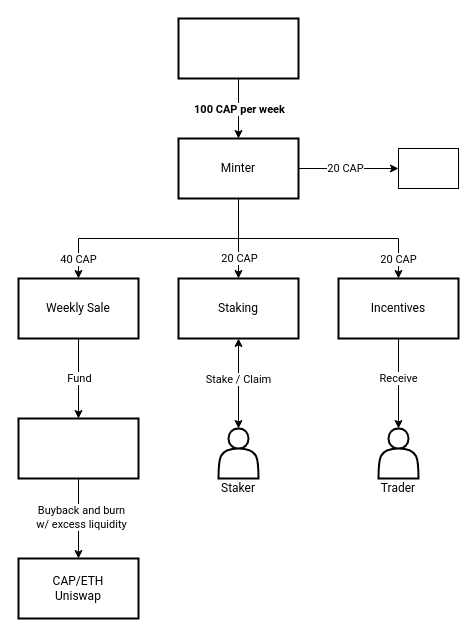
The diagram is 476 pixels wide and 636 high, and some of its shapes have lost their labels. Here are the shapes that lost their labels. From the top down, the centre of each, then its label:
the point at 238,48: CAP ERC20 Token
the point at 428,168: Team
the point at 78,448: Cap Liquidity Pool
